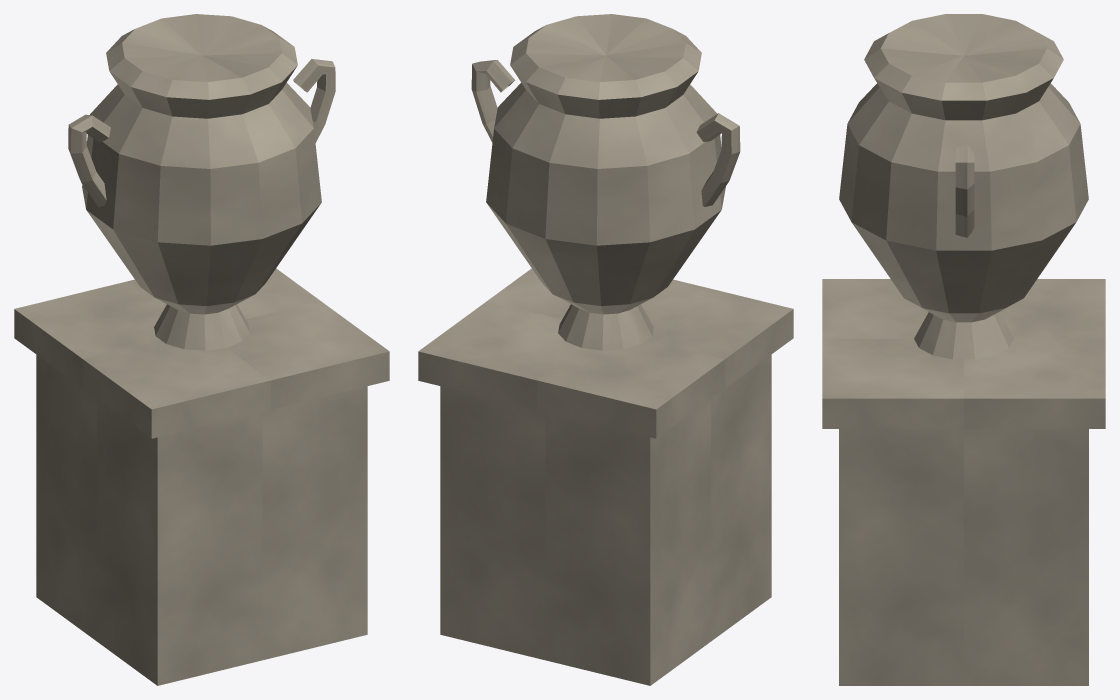
Rendered from Urn_Stone_1.gltf.
3 views of the same model, side by side, from view 1: azimuth 30°, elevation 25°; view 2: azimuth 150°, elevation 25°; view 3: azimuth 270°, elevation 25° (orthographic). The views are drawn at different scales.
Parts seen in each view (by area): view 1: Urn_Stone_1; view 2: Urn_Stone_1; view 3: Urn_Stone_1.
Boxes of the visible parts, x1,y1,x2,y2 form: Urn_Stone_1: [14, 14, 389, 685]; Urn_Stone_1: [418, 14, 793, 685]; Urn_Stone_1: [822, 14, 1105, 685].
Size of the model in its own units: 0.7587 by 1.55 by 0.68.
1 material, 1 textured.
